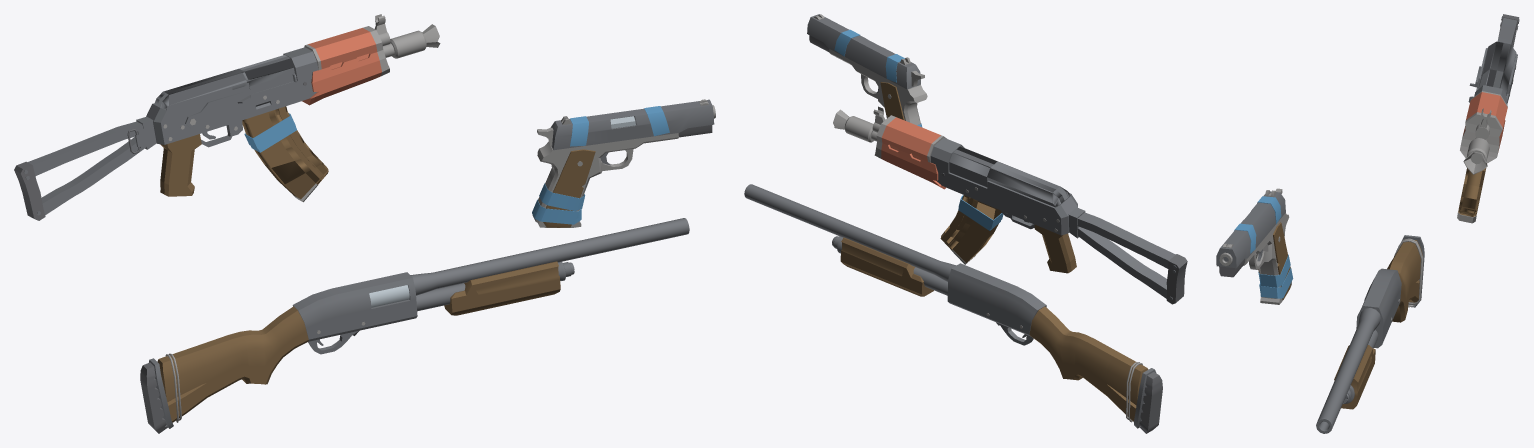
3 renders of one model, left to right at view 1: azimuth 30°, elevation 25°; view 2: azimuth 150°, elevation 25°; view 3: azimuth 270°, elevation 25°, orthographic. The views are drawn at different scales.
Parts seen in each view (by area): view 1: Cube_2, Cube, Tube, Cube_3_4, Cube_2_4, Cube_5, Cube_2_2, Cube_13, Cube_1_3, Cube_1_2, Cube_10, Cube_6_2 (+9 smaller); view 2: Cube_2, Cube, Cube_3_4, Tube, Cube_1_3, Cube_2_4, Cube_2_2, Cube_5, Cube_13, Cube_6_2, Cube_5_3, Cube_1_2 (+7 smaller); view 3: Tube, Cube_2_4, Cube_2_2, Cube, Cube_2, Cube_1_3, Cube_1_2, Cube_13, Cube_5, Symmetry_1_2, Cube_3_4, Symmetry (+3 smaller).
Part boxes in pixels (box(x1,y1,x2,y2)): Cube_2: box(157, 306, 308, 422); Cube: box(292, 272, 417, 341); Tube: box(410, 218, 689, 295); Cube_3_4: box(146, 47, 318, 144); Cube_2_4: box(302, 26, 389, 105); Cube_5: box(444, 261, 560, 315); Cube_2_2: box(551, 99, 714, 150); Cube_13: box(242, 106, 328, 198); Cube_1_3: box(154, 55, 294, 109); Cube_1_2: box(532, 133, 678, 227); Cube_10: box(160, 134, 201, 196); Cube_6_2: box(41, 137, 146, 215); Cube_2: box(1029, 306, 1148, 421); Cube: box(947, 263, 1046, 336); Cube_3_4: box(930, 138, 1077, 235); Tube: box(744, 184, 956, 281); Cube_1_3: box(949, 146, 1070, 207); Cube_2_4: box(874, 115, 946, 189); Cube_2_2: box(807, 14, 920, 89); Cube_5: box(840, 237, 933, 296); Cube_13: box(940, 195, 1001, 263); Cube_6_2: box(1077, 227, 1166, 298); Cube_5_3: box(1077, 212, 1175, 268); Cube_1_2: box(829, 49, 927, 125); Tube: box(1316, 308, 1380, 433); Cube_2_4: box(1460, 91, 1507, 162); Cube_2_2: box(1216, 191, 1285, 268); Cube: box(1356, 268, 1401, 348); Cube_2: box(1387, 239, 1422, 322); Cube_1_3: box(1478, 41, 1516, 95); Cube_1_2: box(1243, 213, 1291, 304); Cube_13: box(1458, 163, 1487, 216); Cube_5: box(1334, 345, 1375, 409); Symmetry_1_2: box(1258, 222, 1290, 299); Cube_3_4: box(1474, 48, 1517, 103); Symmetry: box(1259, 267, 1293, 298).
Bounding box in the file's own units: 514 × 276 × 233.
